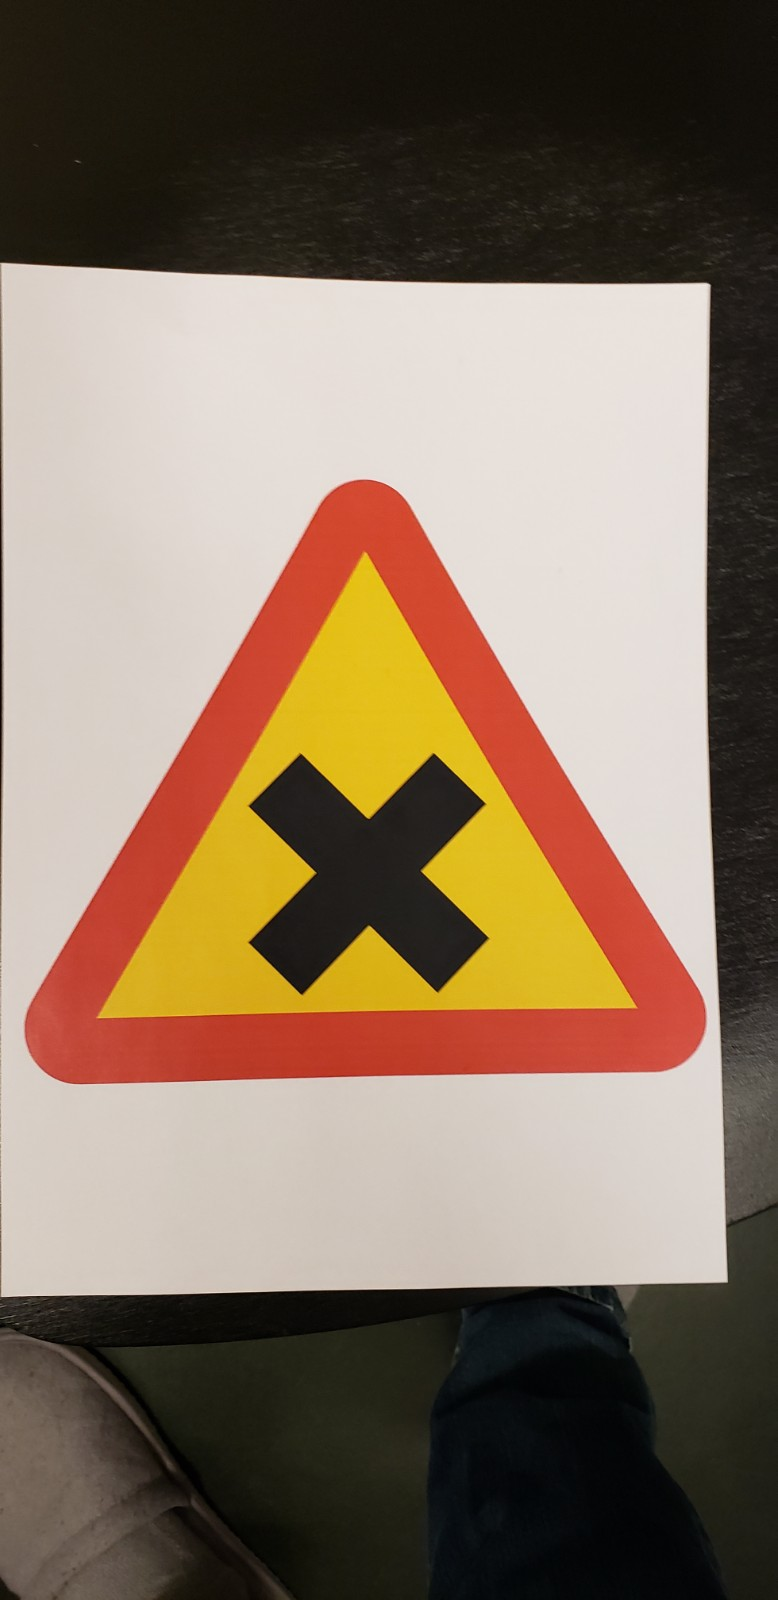junction: (30, 465, 776, 1193)
